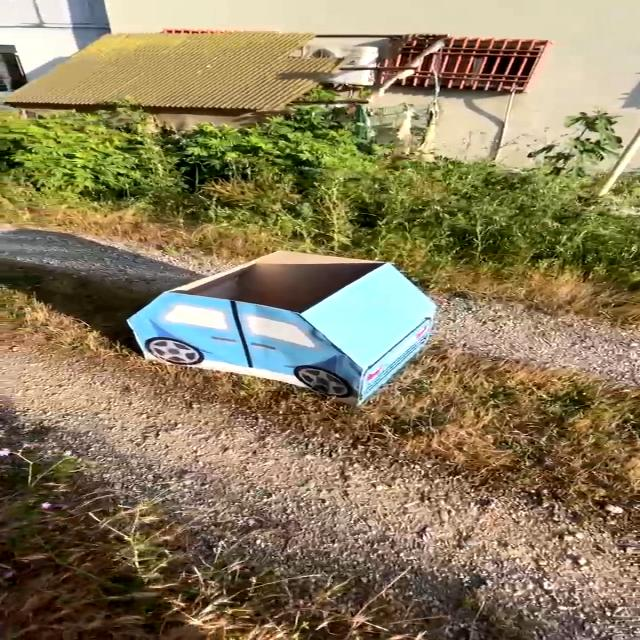blue_car: (77, 238, 480, 413)
